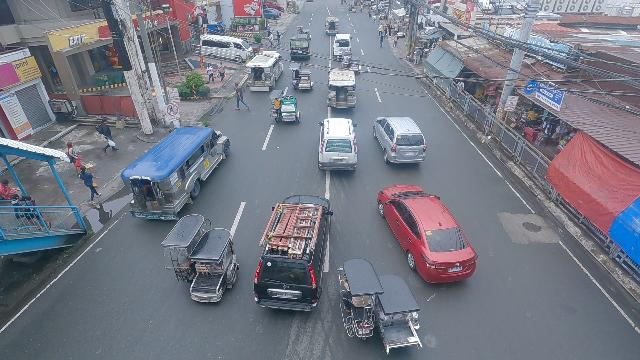car: (378, 185, 478, 283), (254, 195, 333, 311), (290, 33, 311, 61), (332, 33, 352, 61)
jeepney: (120, 126, 229, 220), (374, 116, 427, 163), (318, 117, 358, 170), (245, 50, 283, 90), (327, 68, 355, 107), (324, 16, 339, 36)
van: (199, 33, 251, 65)
